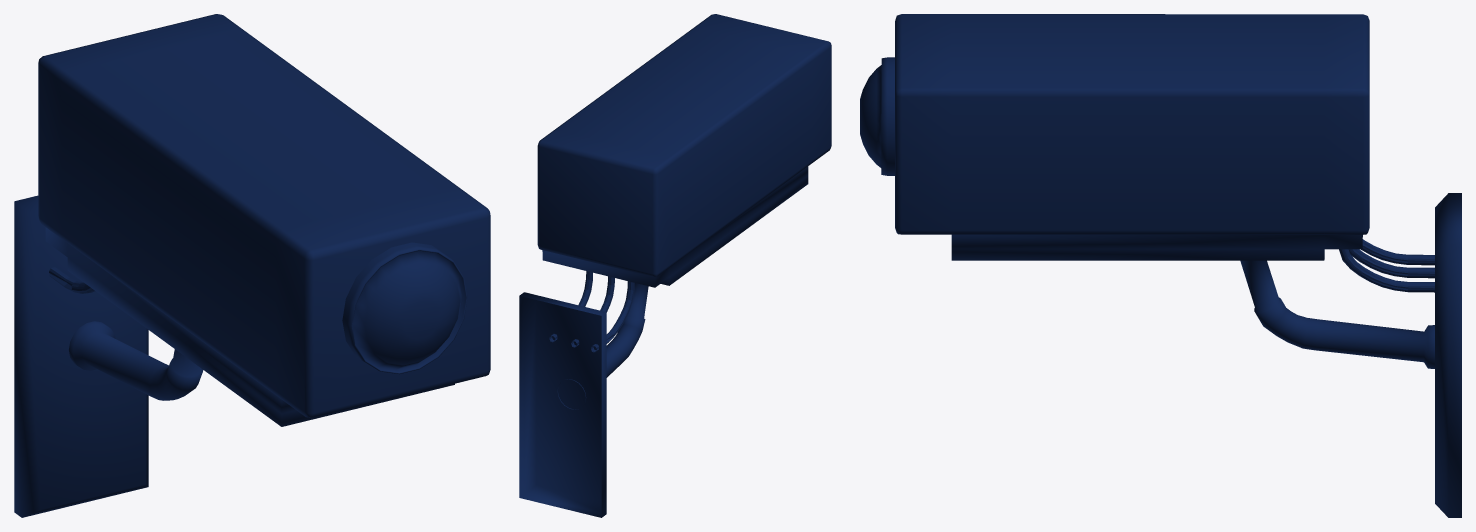
File: Camera Export fbx.FBX
3 renders of one model, left to right at view 1: azimuth 30°, elevation 25°; view 2: azimuth 150°, elevation 25°; view 3: azimuth 270°, elevation 25°, orthographic. The views are drawn at different scales.
Visible parts, largest first — view 1: Camera; view 2: Camera; view 3: Camera.
Boxes of the visible parts, box(x1,y1,x2,y2) form: Camera: box(14, 14, 490, 517); Camera: box(519, 14, 831, 517); Camera: box(860, 14, 1461, 517).
Bounding box in the file's own units: 19.63 × 51.12 × 63.51.
